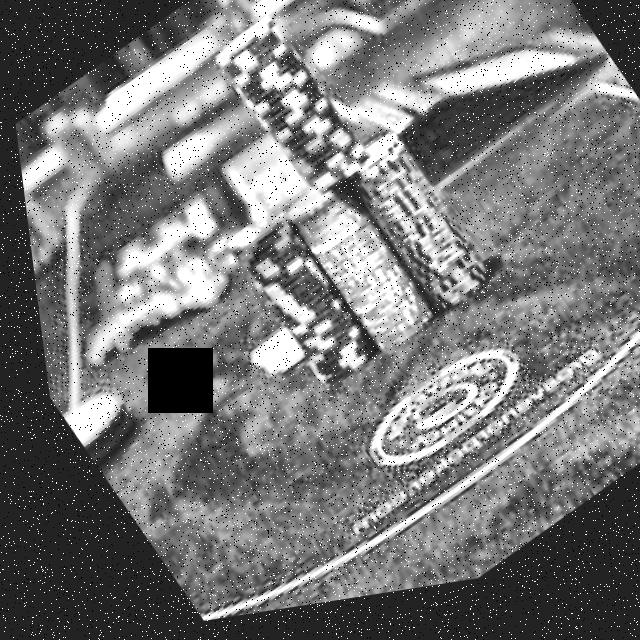Chip: (321, 122, 497, 348), (269, 166, 444, 390), (205, 193, 379, 417), (202, 7, 375, 224)
